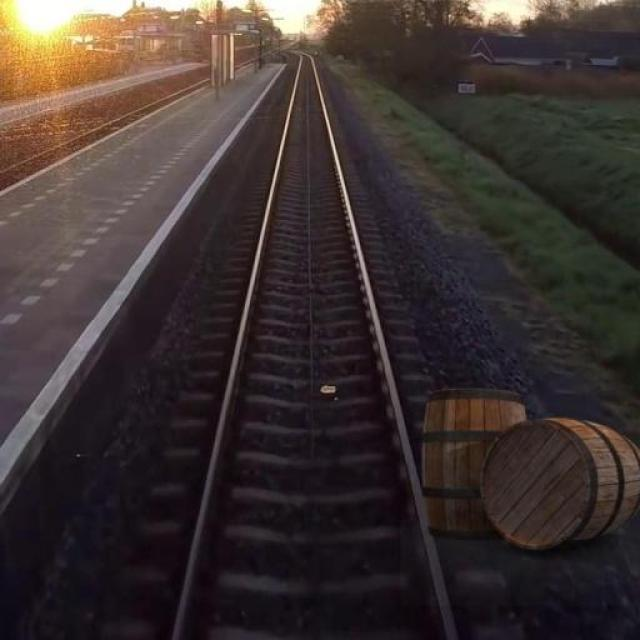Other_objects: (405, 373, 640, 552)
